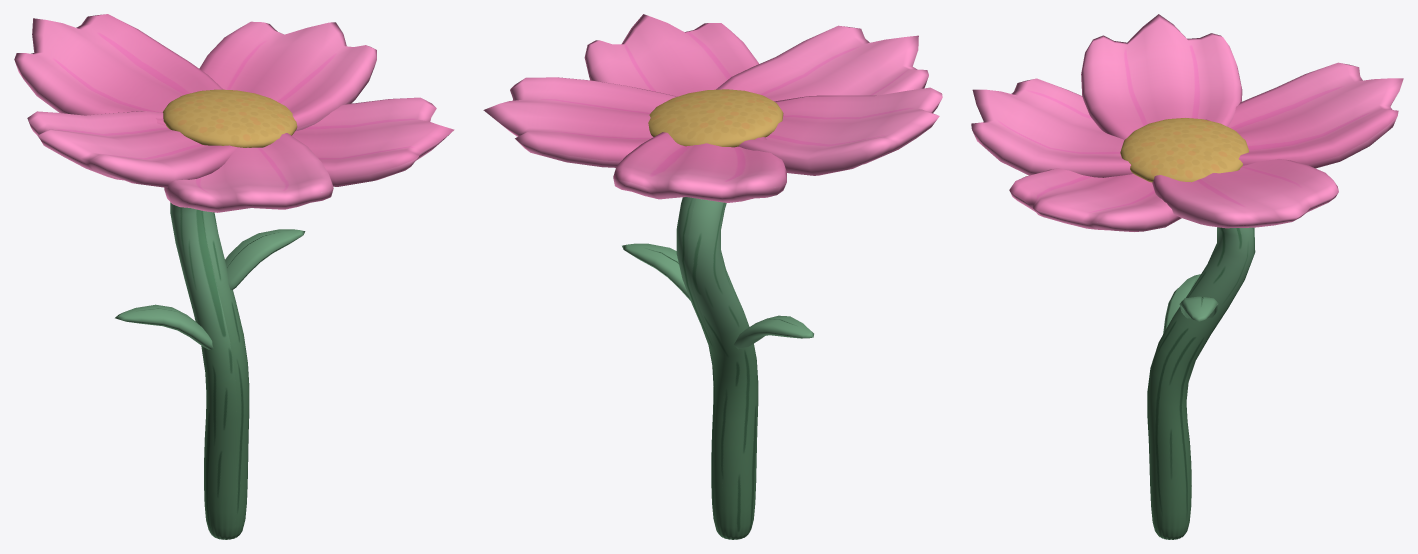
File: Flower platform.fbx
The picture shows the model from 3 angles, left to right: view 1: azimuth 30°, elevation 25°; view 2: azimuth 150°, elevation 25°; view 3: azimuth 270°, elevation 25°; orthographic projection. The views are drawn at different scales.
Visible parts, largest first — view 1: petals1; view 2: petals1; view 3: petals1.
Boxes of the visible parts, <box> form: petals1: <box>14,14,454,539</box>; petals1: <box>483,14,942,539</box>; petals1: <box>971,14,1403,539</box>.
Size of the model in its own units: 13.47 by 15.47 by 14.02.
